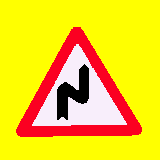Double_bend_right: (16, 26, 143, 137)
